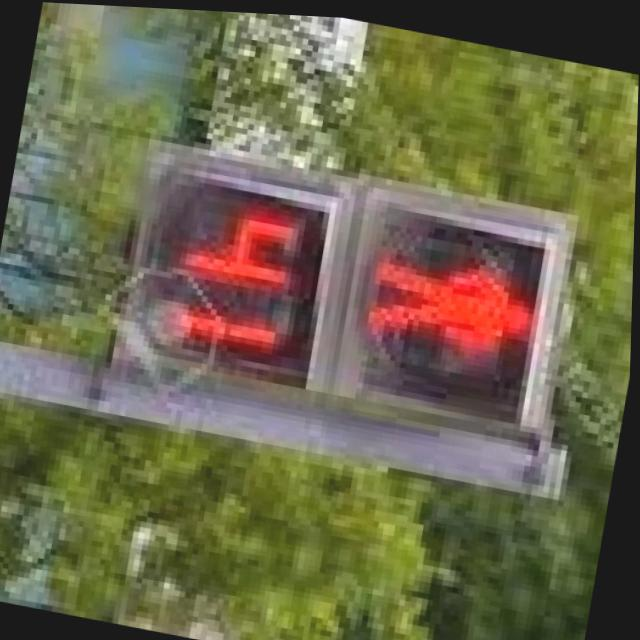red_light: (357, 218, 562, 383)
